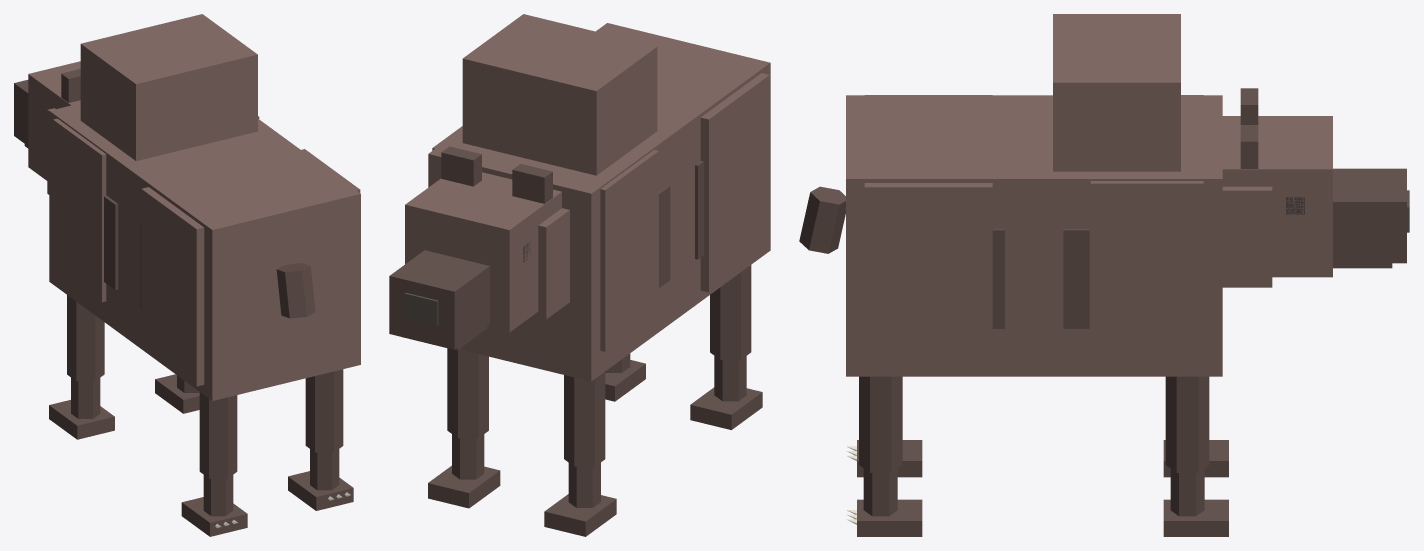
File: bear.glb
3 views of the same model, side by side, from view 1: azimuth 30°, elevation 25°; view 2: azimuth 150°, elevation 25°; view 3: azimuth 270°, elevation 25° (orthographic). The views are drawn at different scales.
Visible parts, largest first — view 1: bear; view 2: bear; view 3: bear.
Boxes of the visible parts, left/top/right/bottom form: bear: left=14, top=14, right=360, bottom=536; bear: left=389, top=14, right=770, bottom=536; bear: left=799, top=14, right=1409, bottom=536.
Size of the model in its own units: 0.55 by 1.25 by 1.54.
